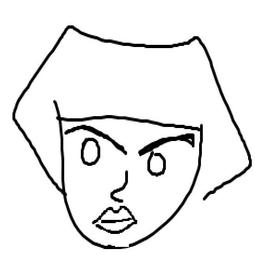cupid_mouth: (91, 204, 139, 236)
empty_eye: (145, 150, 170, 178), (79, 137, 101, 166)
frowning_eyebrow: (66, 123, 129, 155), (136, 133, 196, 155)
nose: (106, 164, 134, 205)
